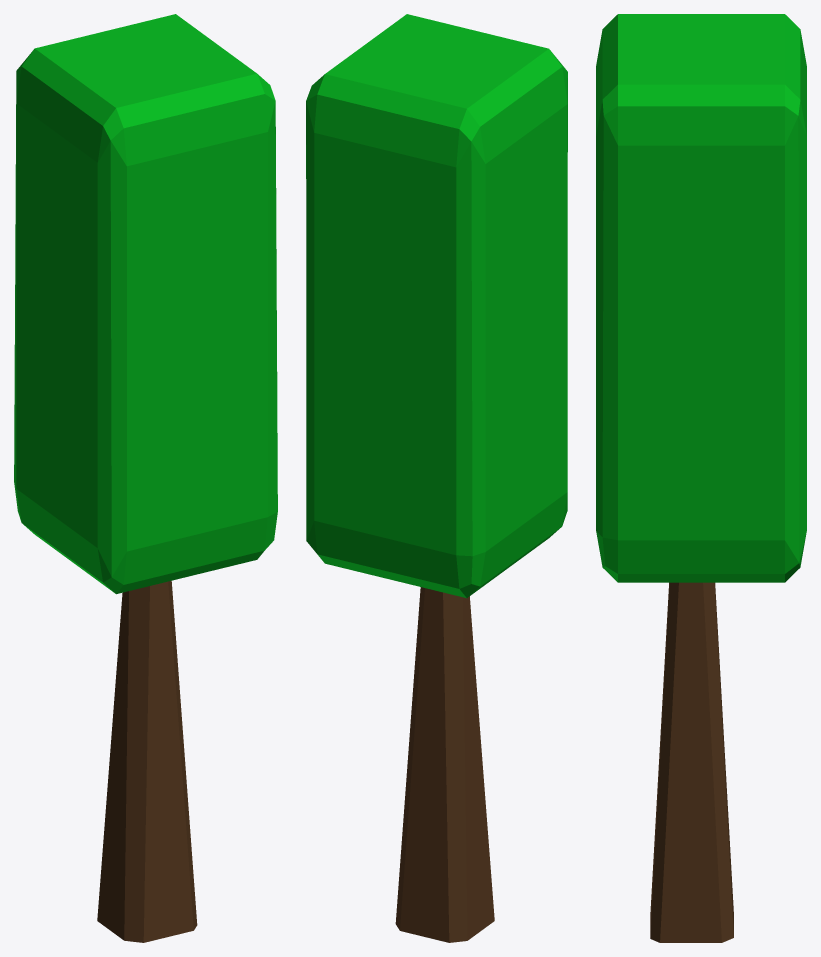
File: Tree5.fbx
The picture shows the model from 3 angles, left to right: view 1: azimuth 30°, elevation 25°; view 2: azimuth 150°, elevation 25°; view 3: azimuth 270°, elevation 25°; orthographic projection. The views are drawn at different scales.
Parts seen in each view (by area): view 1: Tree5; view 2: Tree5; view 3: Tree5.
Part boxes in pixels (x1,y1,x2,y2): Tree5: (14,14,277,942); Tree5: (306,14,567,942); Tree5: (596,14,806,942).
Bounding box in the file's own units: 2.08 × 9.55 × 2.08.
